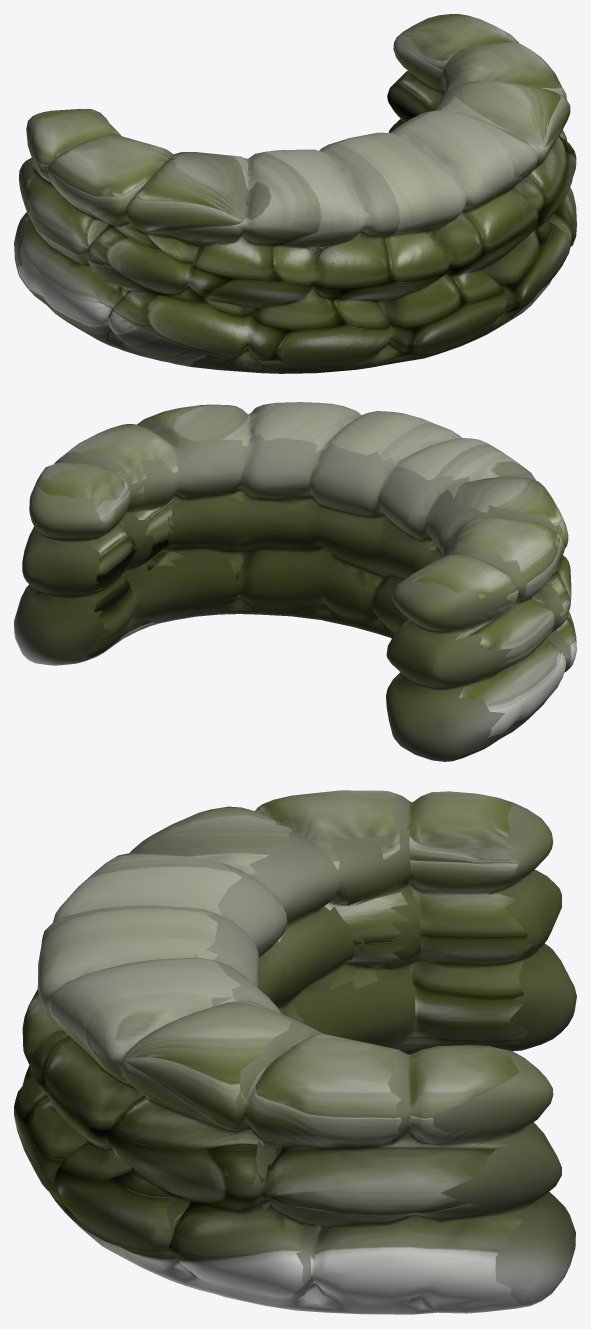
The model's file is sandbags.glb.
The picture shows the model from 3 angles, top to bottom: view 1: azimuth 30°, elevation 25°; view 2: azimuth 150°, elevation 25°; view 3: azimuth 270°, elevation 25°; orthographic projection. The views are drawn at different scales.
Parts seen in each view (by area): view 1: sandbags; view 2: sandbags; view 3: sandbags.
Part boxes in pixels (x1,y1,x2,y2): sandbags: (14,14,576,373); sandbags: (14,402,576,761); sandbags: (14,790,576,1314).
Bounding box in the file's own units: 3.6 × 1.29 × 2.65.
Materials: 1 (1 with a texture image).
